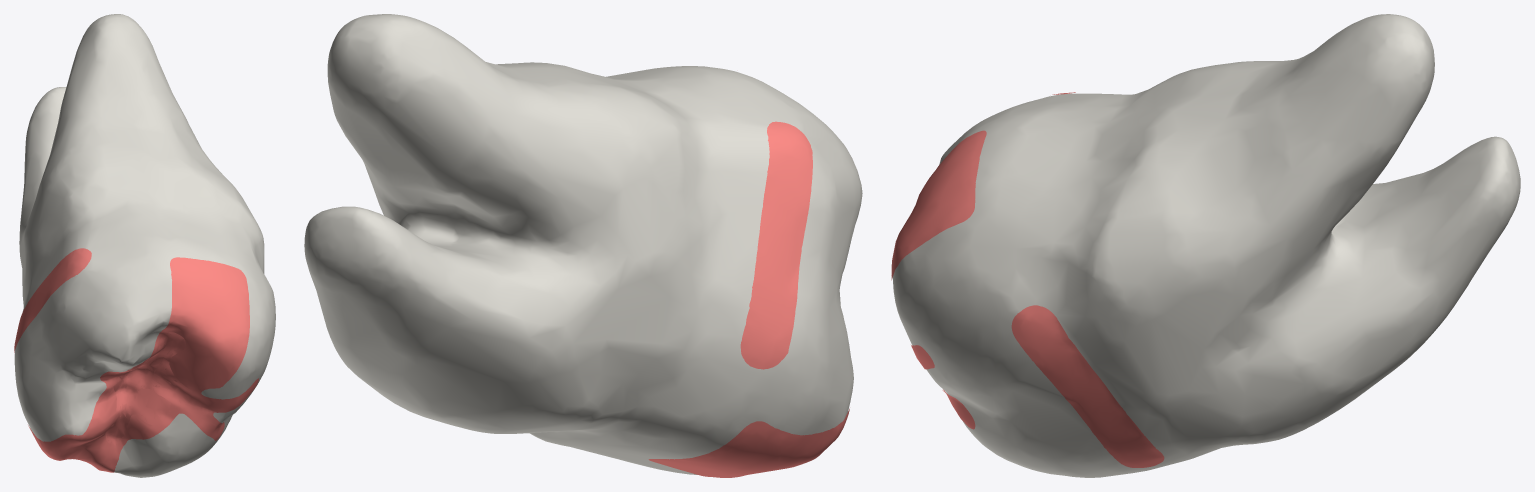
File: tooth_37_FMA55703.glb
The picture shows the model from 3 angles, left to right: view 1: azimuth 30°, elevation 25°; view 2: azimuth 150°, elevation 25°; view 3: azimuth 270°, elevation 25°; orthographic projection. The views are drawn at different scales.
Visible parts, largest first — view 1: tooth_37, class2_distal, class2_mesial, class1, class5_lingual, class2_mesial_distal; view 2: tooth_37, class5_lingual, class2_mesial; view 3: tooth_37, class5_facial, class2_distal, class1.
Boxes of the visible parts, bbox=[...] form: tooth_37: bbox=[14, 14, 275, 477]; class2_distal: bbox=[105, 257, 249, 425]; class2_mesial: bbox=[28, 348, 193, 472]; class1: bbox=[100, 332, 258, 445]; class5_lingual: bbox=[14, 248, 91, 352]; class2_mesial_distal: bbox=[107, 356, 196, 436]; tooth_37: bbox=[304, 14, 862, 474]; class5_lingual: bbox=[740, 121, 812, 369]; class2_mesial: bbox=[648, 408, 849, 477]; tooth_37: bbox=[892, 14, 1520, 477]; class5_facial: bbox=[1011, 305, 1164, 467]; class2_distal: bbox=[891, 130, 986, 280]; class1: bbox=[911, 345, 975, 429].
Size of the model in its own units: 11.47 by 15.62 by 17.72.
